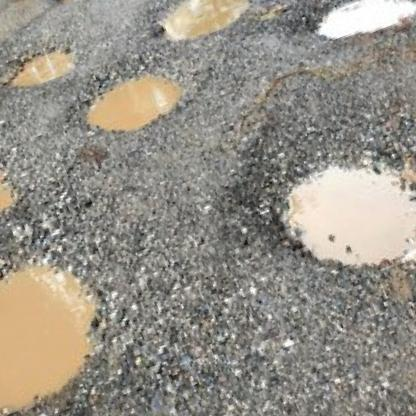pothole: (256, 114, 416, 307), (0, 227, 139, 416), (70, 53, 194, 148), (303, 0, 416, 57), (150, 0, 260, 52), (0, 35, 85, 101), (0, 153, 30, 249), (53, 0, 102, 10)
